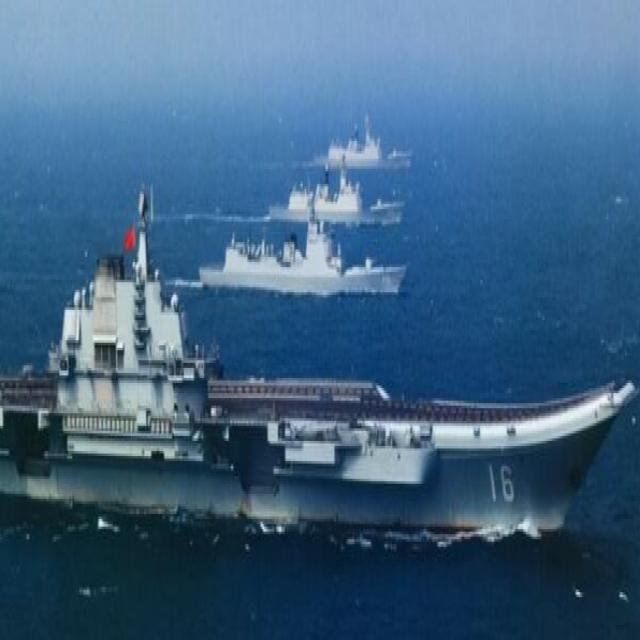navalvessels: (16, 195, 628, 596), (210, 202, 397, 301), (314, 109, 402, 193), (281, 155, 387, 222)
